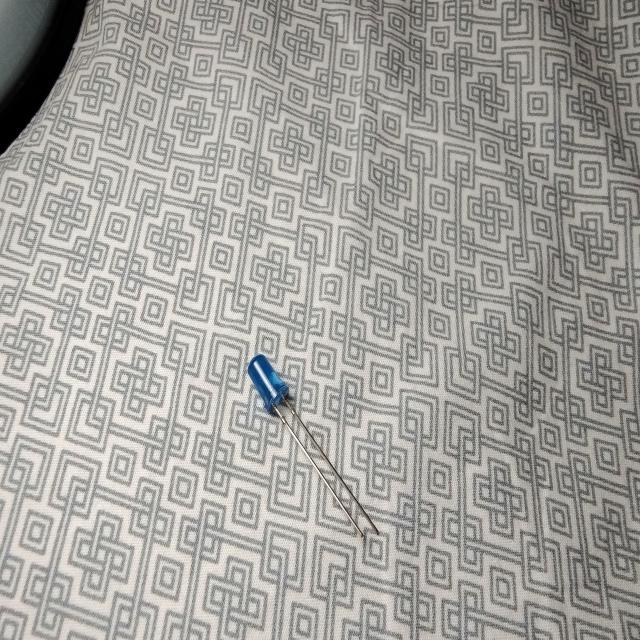blue_led: (246, 352, 380, 538)
